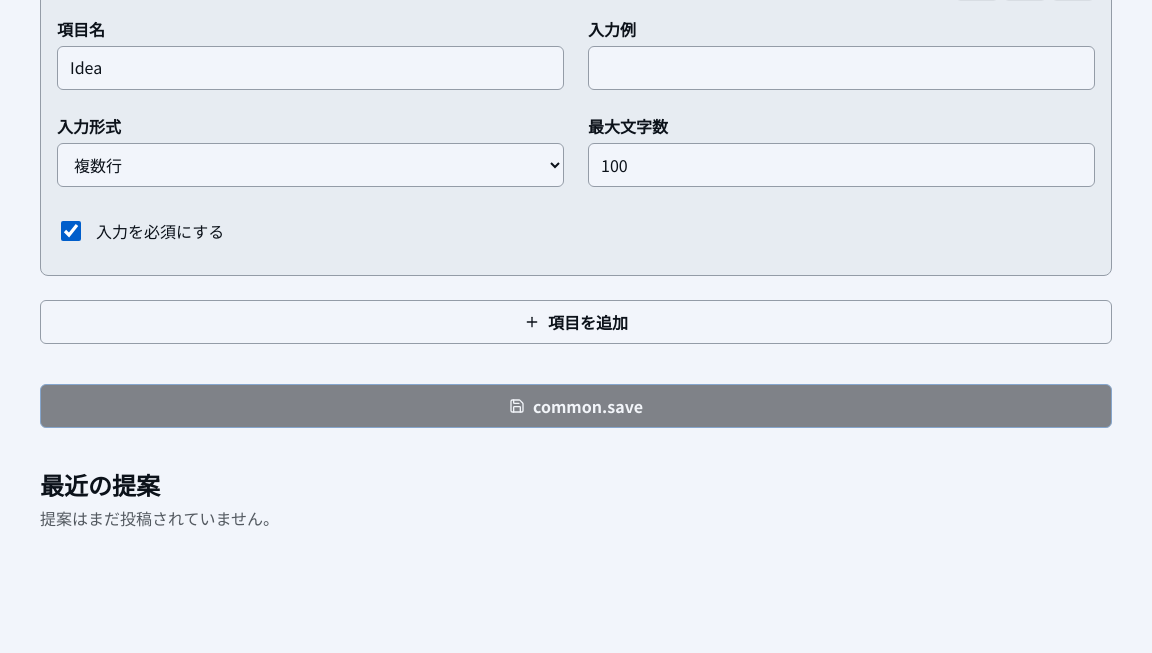
Test: Suggestions settings › localizes field controls in ja
(page scrolled)
What coordinates should you click on to do the following:
click the button "項目を追加"
I would click on:
 (576, 322)
Its box is top-left (40, 300), bottom-right (1112, 344).
(page scrolled)
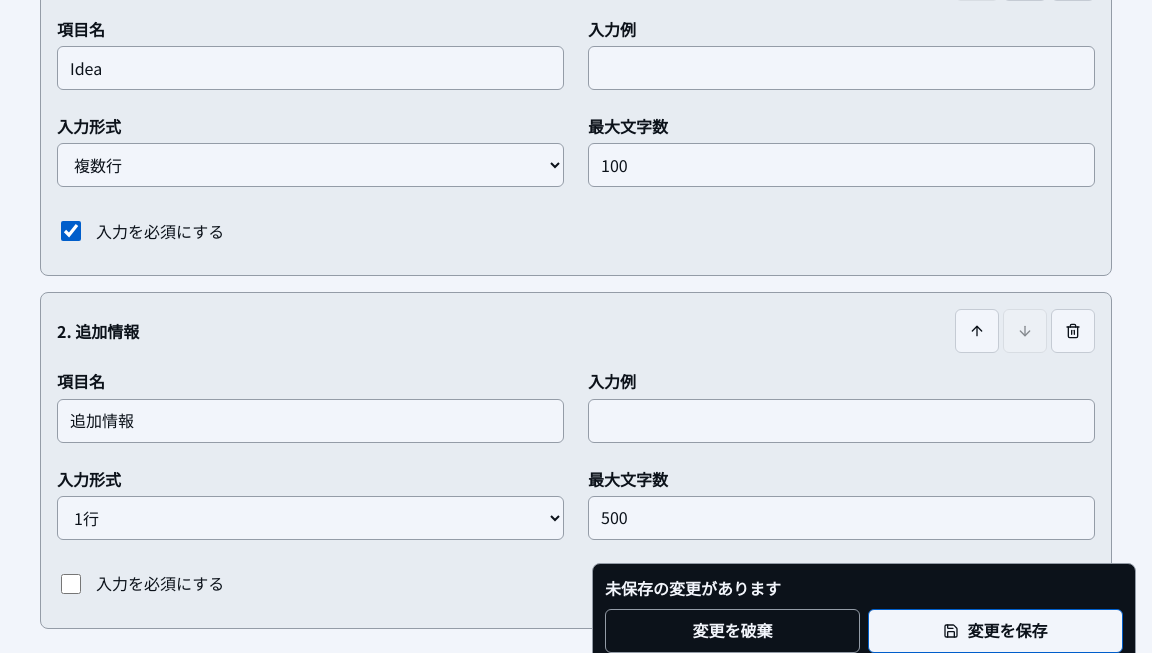
Now the field showing "追加情報" below "追加情報" is shown, box top-left (57, 399), bottom-right (564, 443)
